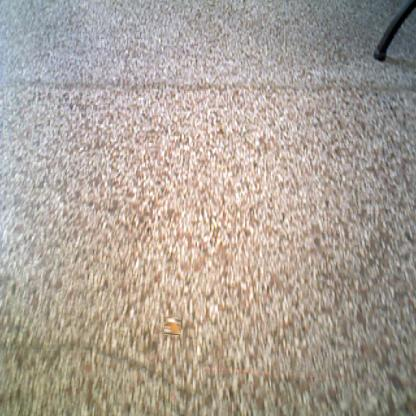dirty: (163, 318, 181, 336), (215, 123, 224, 135)
